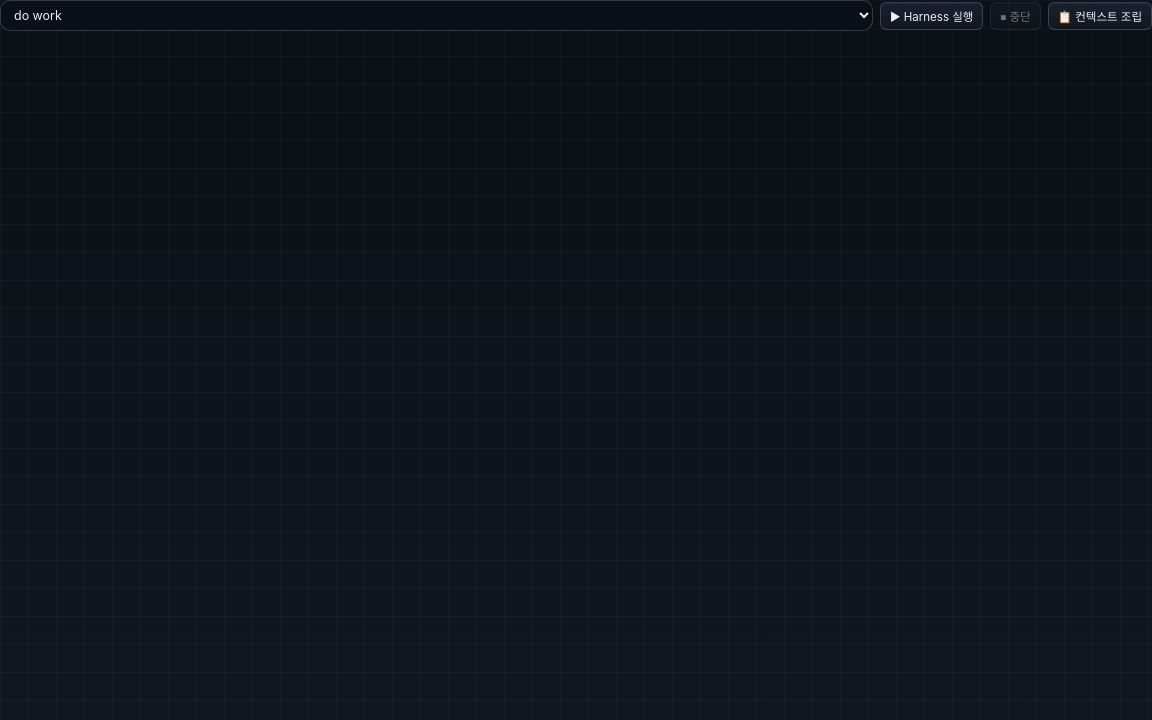
Test case: DevHarnessPanel › composes a prompt into the editable textarea
Click the button "📋 컨텍스트 조립" at point(1100, 16), box left=1048, top=2, right=1151, bottom=30
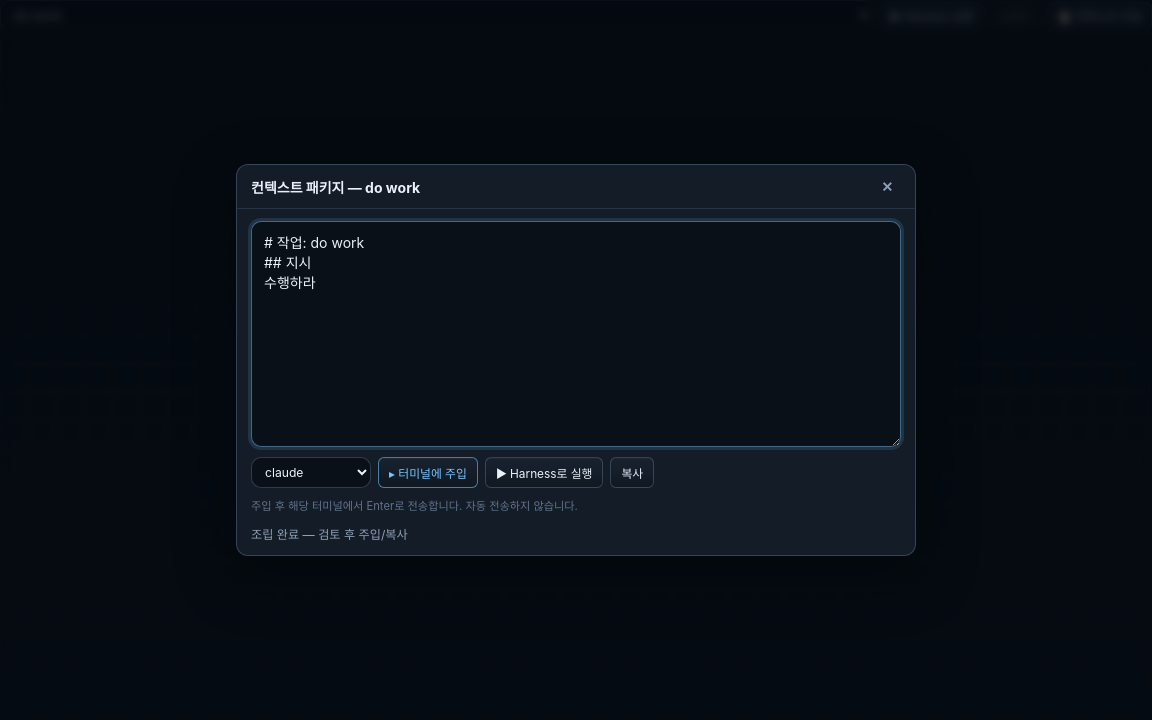
Now the dialog "컨텍스트 패키지 — do work" is shown
